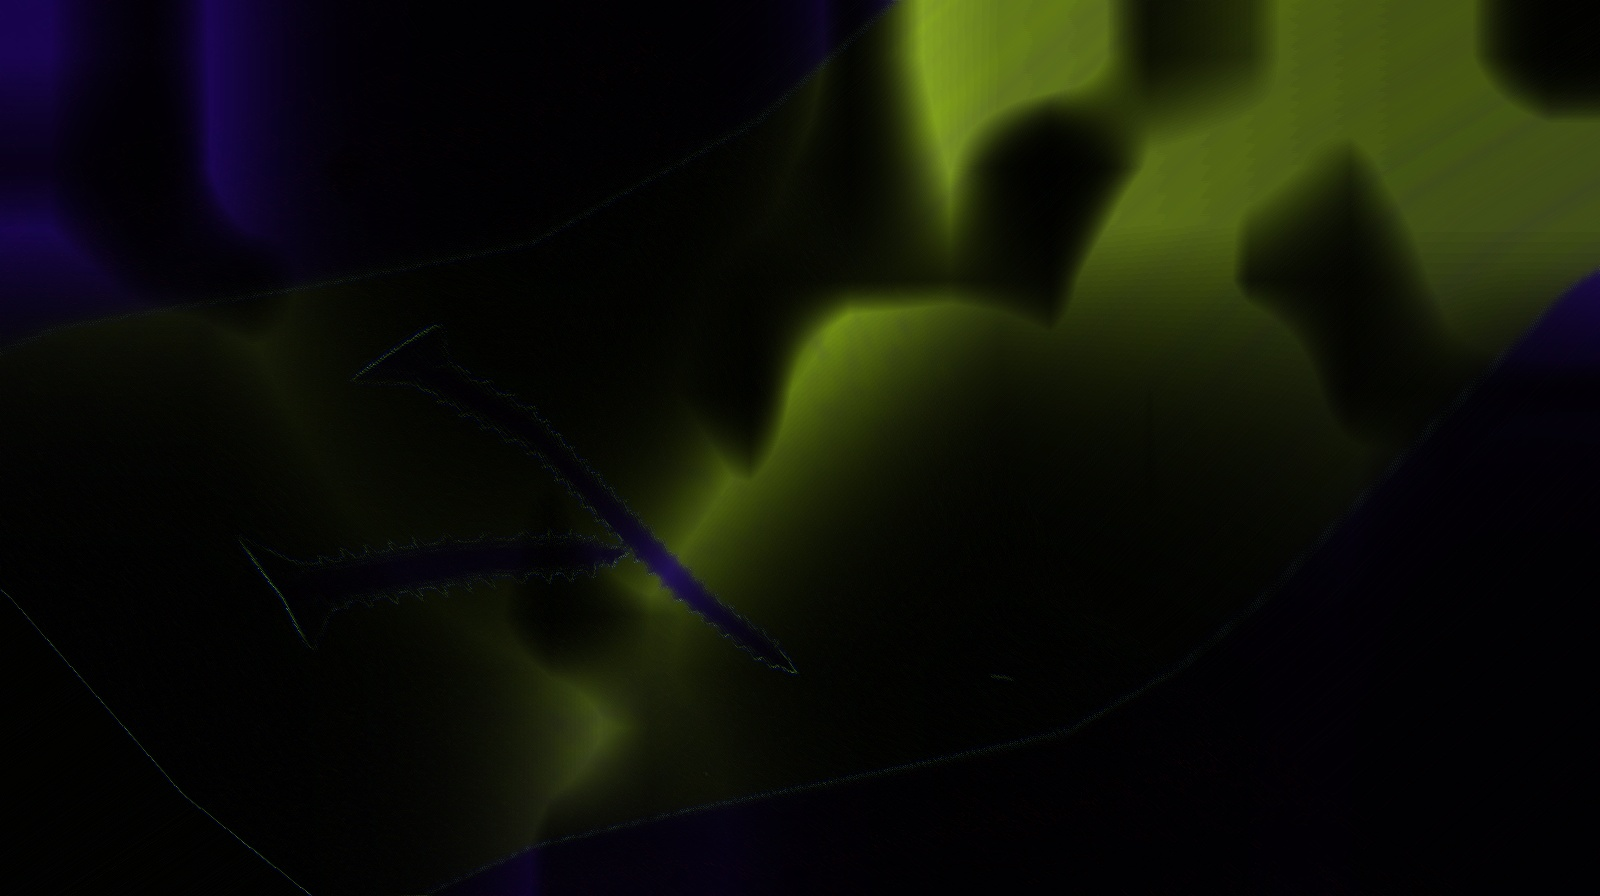S001: (207, 396, 636, 717)
S002: (310, 270, 803, 734)
